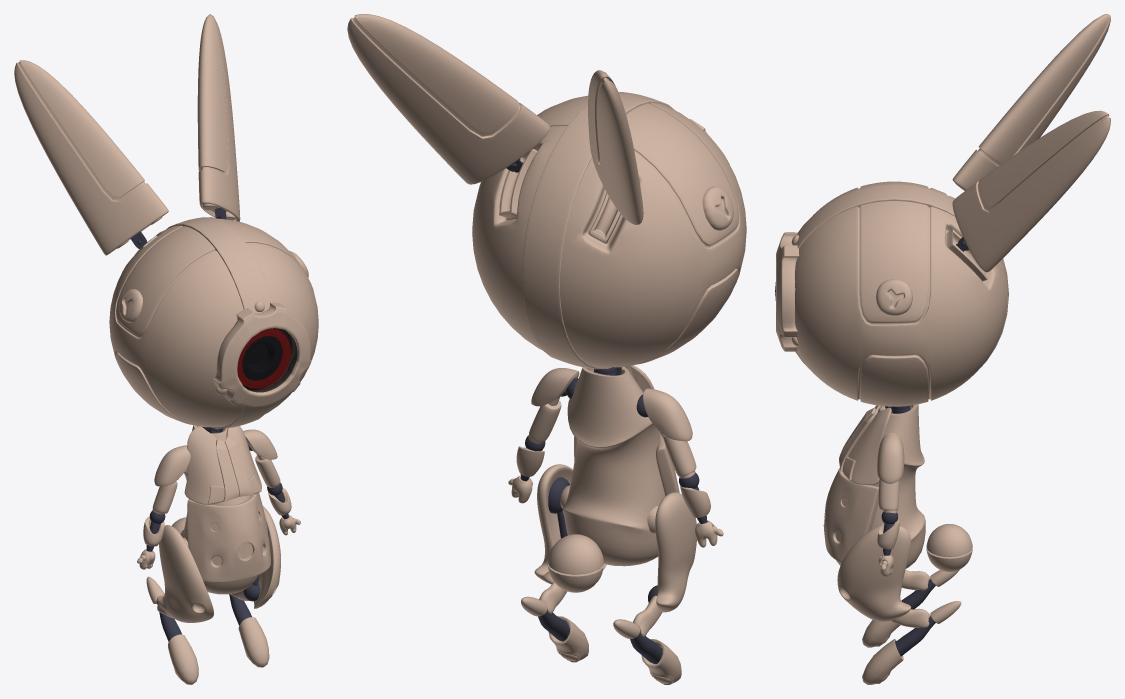
Rendered from robot_rabbit.glb.
3 views of the same model, side by side, from view 1: azimuth 30°, elevation 25°; view 2: azimuth 150°, elevation 25°; view 3: azimuth 270°, elevation 25° (orthographic). The views are drawn at different scales.
Visible parts, largest first — view 1: Object_12, Object_11, Object_7, Object_15, Object_10, Object_2, Object_13, Object_19, Object_4, Object_14, Object_5, Object_3 (+4 smaller); view 2: Object_12, Object_10, Object_11, Object_15, Object_14, Object_4, Object_5, Object_6, Object_18, Object_9, Object_17, Object_19 (+1 smaller); view 3: Object_12, Object_11, Object_10, Object_14, Object_7, Object_13, Object_4, Object_15, Object_5, Object_8, Object_18, Object_17.
Boxes of the visible parts, x1,y1,x2,y2 form: Object_12: (14, 60, 318, 600); Object_11: (117, 14, 240, 248); Object_7: (187, 493, 270, 582); Object_15: (146, 515, 296, 684); Object_10: (172, 301, 269, 667); Object_2: (237, 328, 297, 392); Object_13: (184, 426, 261, 504); Object_19: (130, 207, 291, 601); Object_4: (154, 429, 300, 524); Object_14: (157, 506, 280, 617); Object_5: (137, 453, 296, 569); Object_3: (237, 328, 290, 388); Object_12: (472, 70, 746, 613); Object_10: (548, 366, 665, 662); Object_11: (347, 14, 549, 184); Object_15: (511, 475, 696, 684); Object_14: (521, 464, 662, 636); Object_4: (508, 368, 692, 485); Object_5: (512, 397, 723, 547); Object_6: (663, 435, 710, 517); Object_18: (520, 378, 662, 663); Object_9: (702, 186, 733, 230); Object_17: (538, 394, 707, 641); Object_19: (506, 159, 621, 538); Object_12: (776, 14, 1110, 627); Object_11: (952, 110, 1110, 272); Object_10: (791, 235, 972, 684); Object_14: (837, 526, 961, 623); Object_7: (823, 468, 878, 562); Object_13: (848, 405, 891, 485); Object_4: (877, 432, 904, 570); Object_15: (862, 554, 959, 647); Object_5: (877, 479, 899, 566); Object_8: (876, 279, 912, 315); Object_18: (881, 512, 935, 609); Object_17: (895, 616, 935, 656).
Size of the model in its own units: 8.31 by 21.73 by 10.99.
